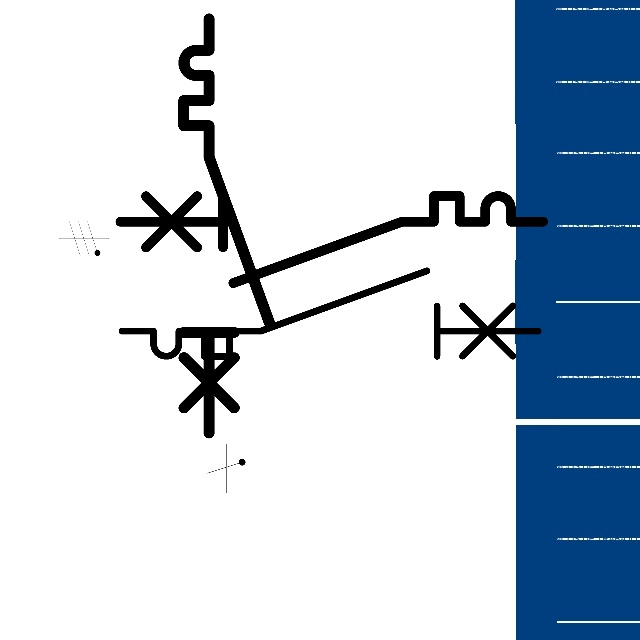interruptor_termomagnetico: (109, 185, 554, 294), (111, 260, 549, 367), (173, 8, 279, 444)
